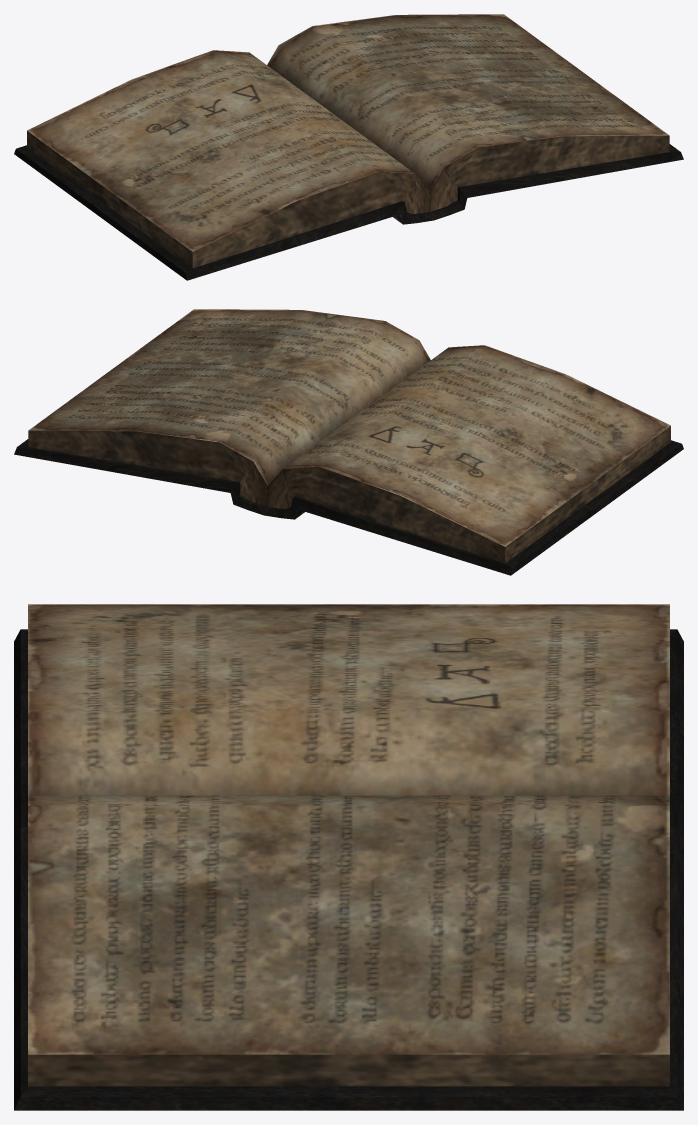
Rendered from tome_open02.dae.
3 renders of one model, top to bottom at view 1: azimuth 30°, elevation 25°; view 2: azimuth 150°, elevation 25°; view 3: azimuth 270°, elevation 25°, orthographic. The views are drawn at different scales.
Visible parts, largest first — view 1: pCube1; view 2: pCube1; view 3: pCube1.
Part boxes in pixels (x1,y1,x2,y2): pCube1: [14, 14, 683, 280]; pCube1: [14, 309, 683, 575]; pCube1: [14, 604, 683, 1110].
Size of the model in its own units: 0.7474 by 0.0845 by 0.4511.
